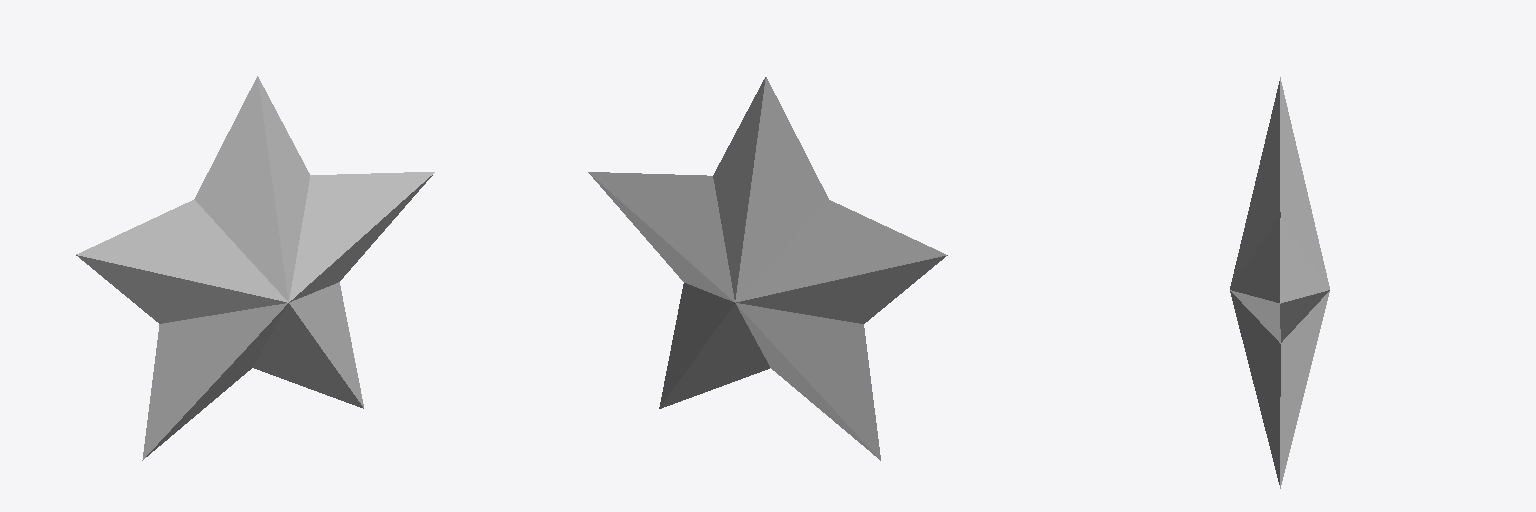
The model's file is Star5.obj.
3 views of the same model, side by side, from view 1: azimuth 30°, elevation 25°; view 2: azimuth 150°, elevation 25°; view 3: azimuth 270°, elevation 25° (orthographic).
Visible parts, largest first — view 1: pCylinder1.001; view 2: pCylinder1.001; view 3: pCylinder1.001.
Boxes of the visible parts, <box> form: pCylinder1.001: <box>76,76,434,460</box>; pCylinder1.001: <box>588,77,947,460</box>; pCylinder1.001: <box>1230,77,1329,488</box>.
Bounding box in the file's own units: 5.29 × 5.04 × 1.28.